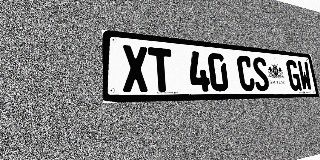0: (207, 52, 229, 91)
4: (187, 51, 211, 92)
C: (236, 55, 256, 91)
G: (285, 60, 302, 91)
S: (251, 57, 270, 91)
T: (148, 47, 174, 92)
W: (297, 61, 313, 91)
X: (122, 45, 149, 92)
